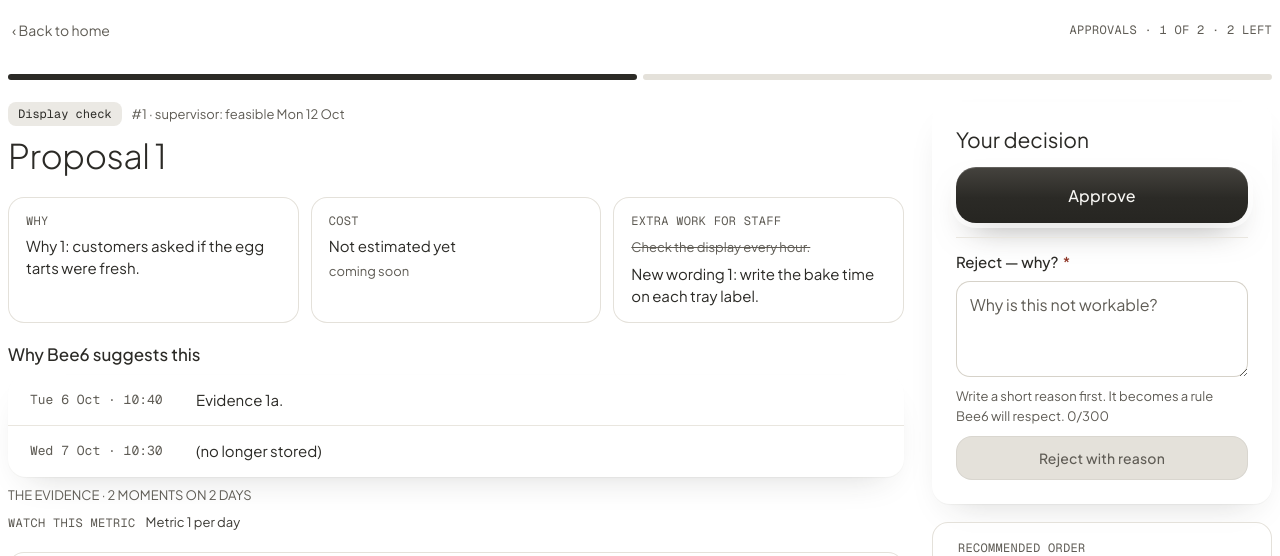
Test case: ApprovalsReview — approve › a double tap sends one request
Expected: the heading "Proposal 1" is shown, [8,134,166,177]
Click the button "Approve". click: (1102, 195)
box: [956,167,1248,223]
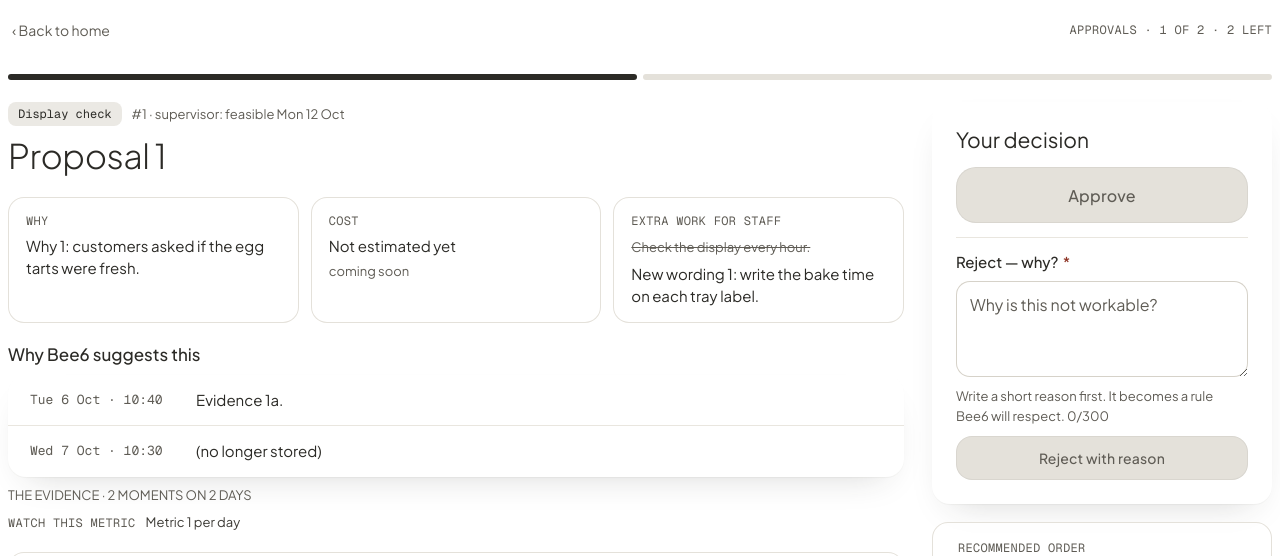
Click the button "Approve". click: (1102, 195)
box: [956,167,1248,223]
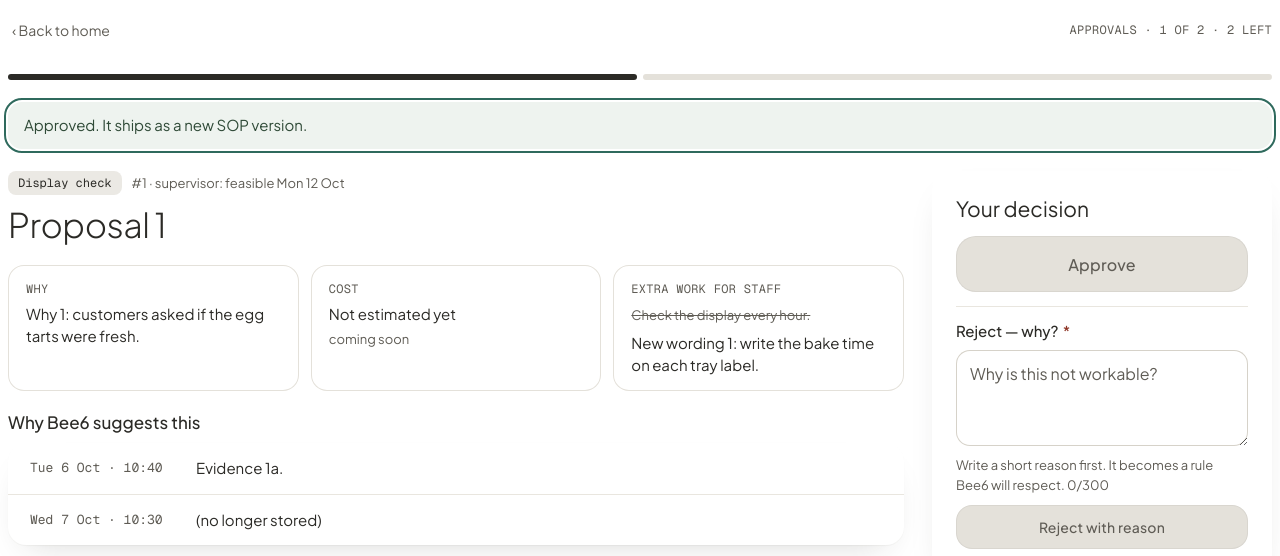
Expected: the button "Approve" is disabled, [956,236,1248,292]
Expected: the text "Approved. It ships as a new SOP version." is shown, [8,102,1272,148]
